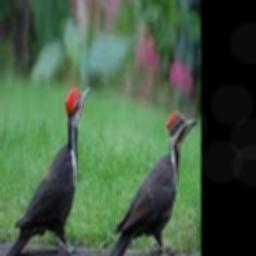Woodpecker: (5, 85, 90, 256), (99, 109, 197, 256)
